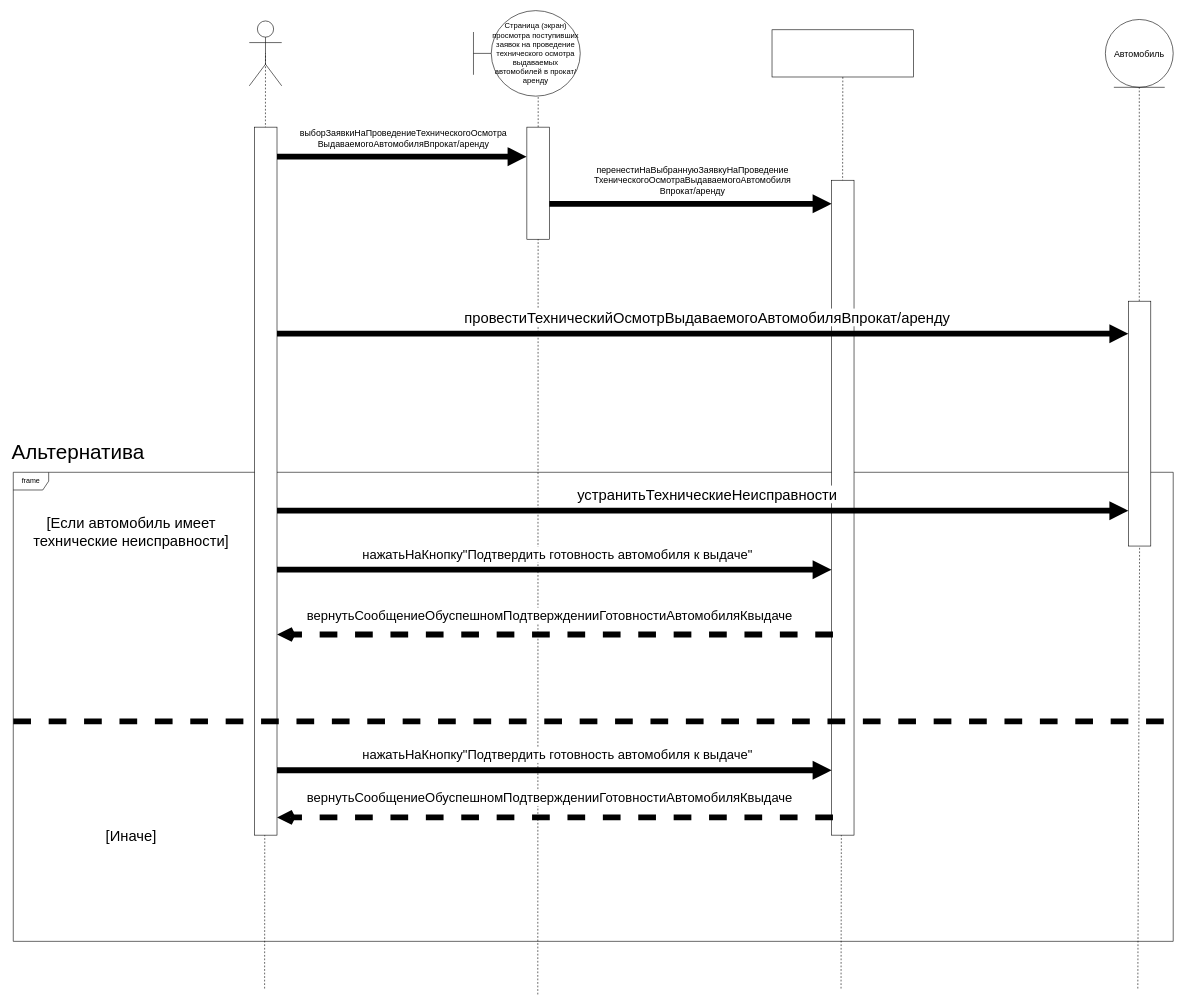
This 1189x1005 diagram has some shape labels left out. Each missing label, with the centre of its shape:
"Автомеханик" belongs at point 265,53.
"Заявка на проведение технического осмотра выдаваемого автомобиля в прокат/аренду" belongs at point 842,53.
